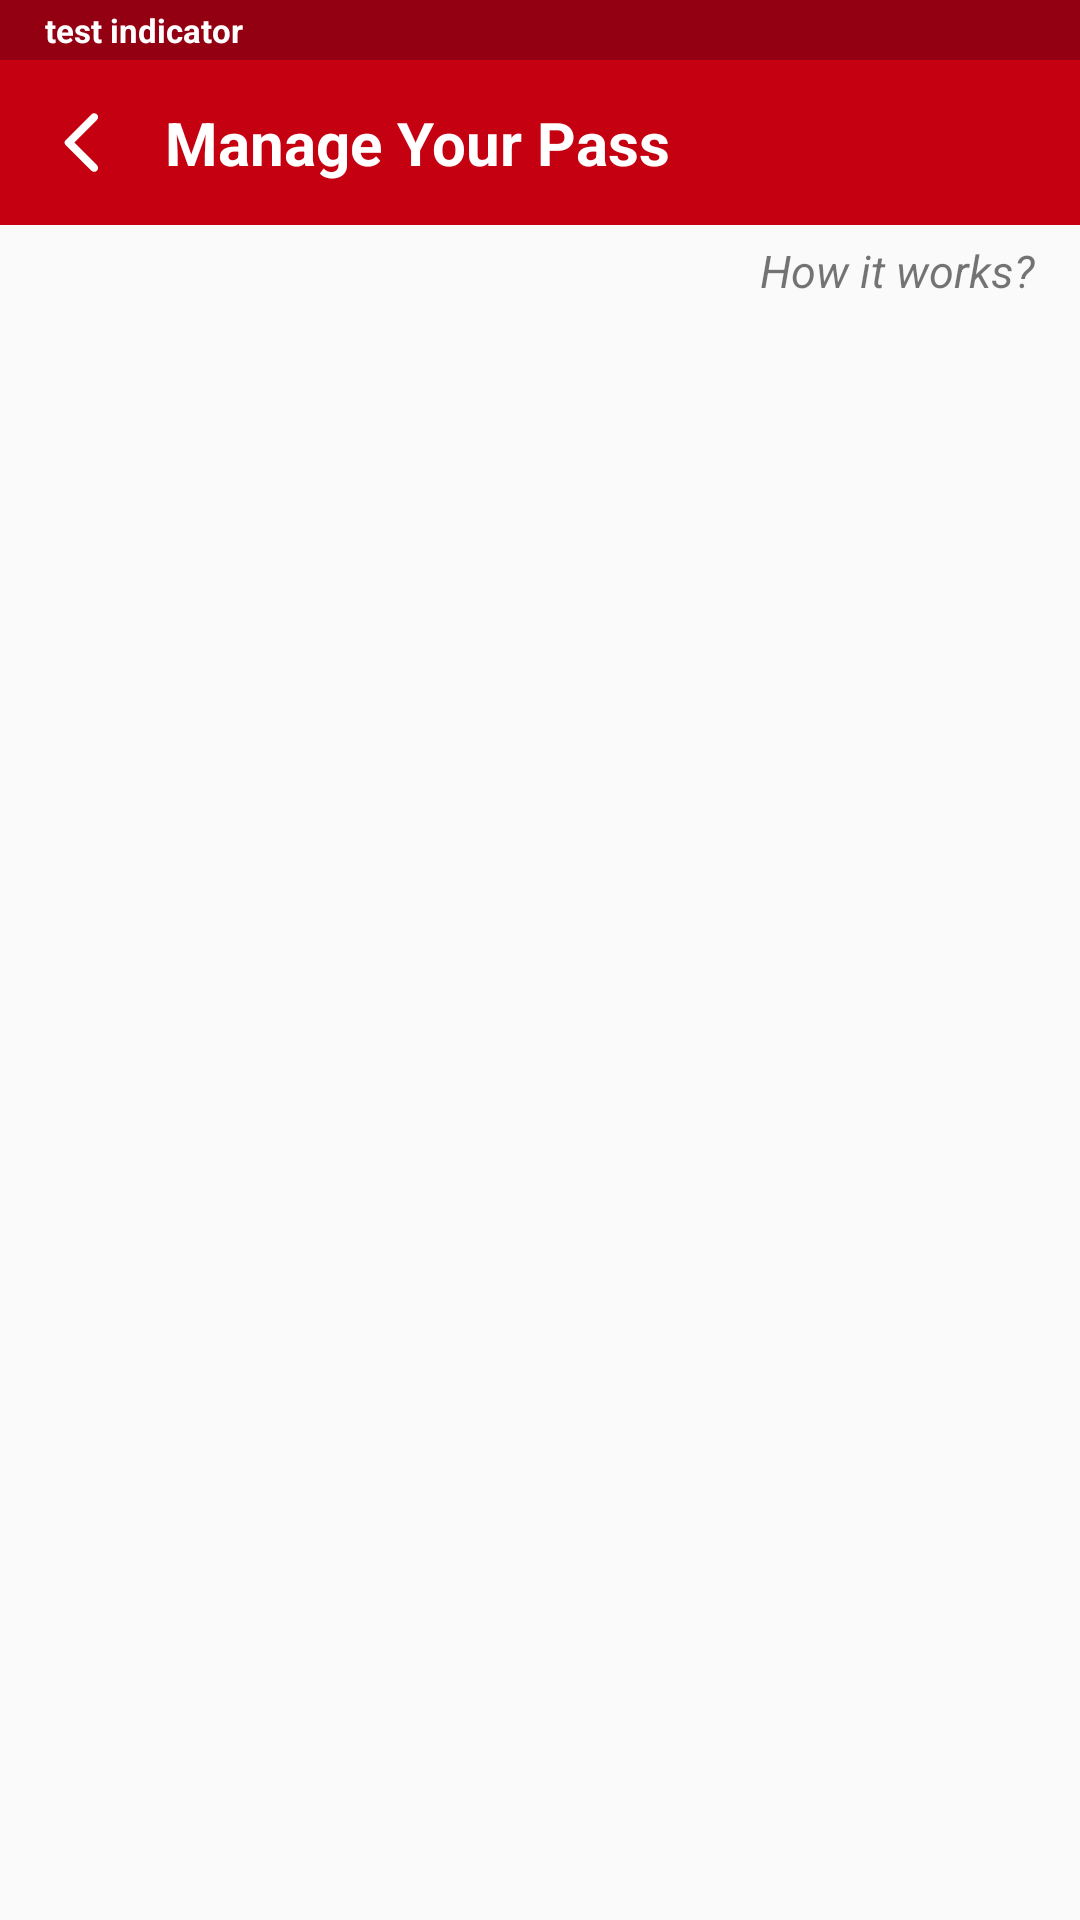

Named icons in this screenshot (1080×1920) and their bounding boxes, (x1, y1, x2, y2):
back: (64, 113, 98, 172)
